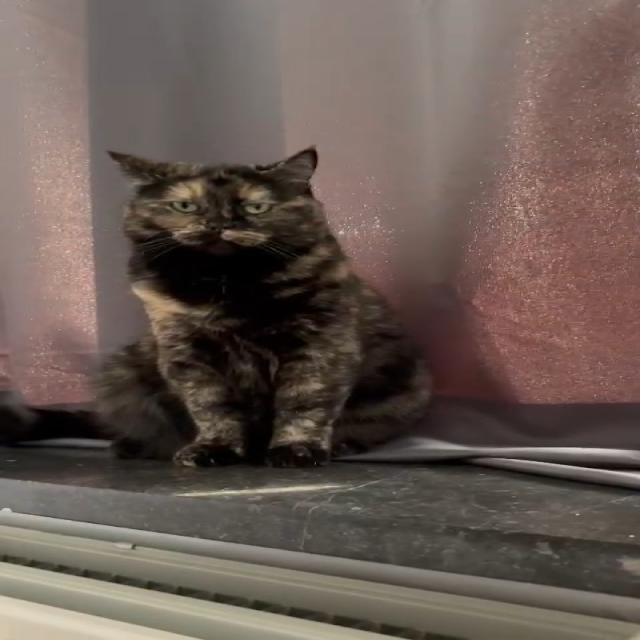authorized: (90, 144, 434, 469)
